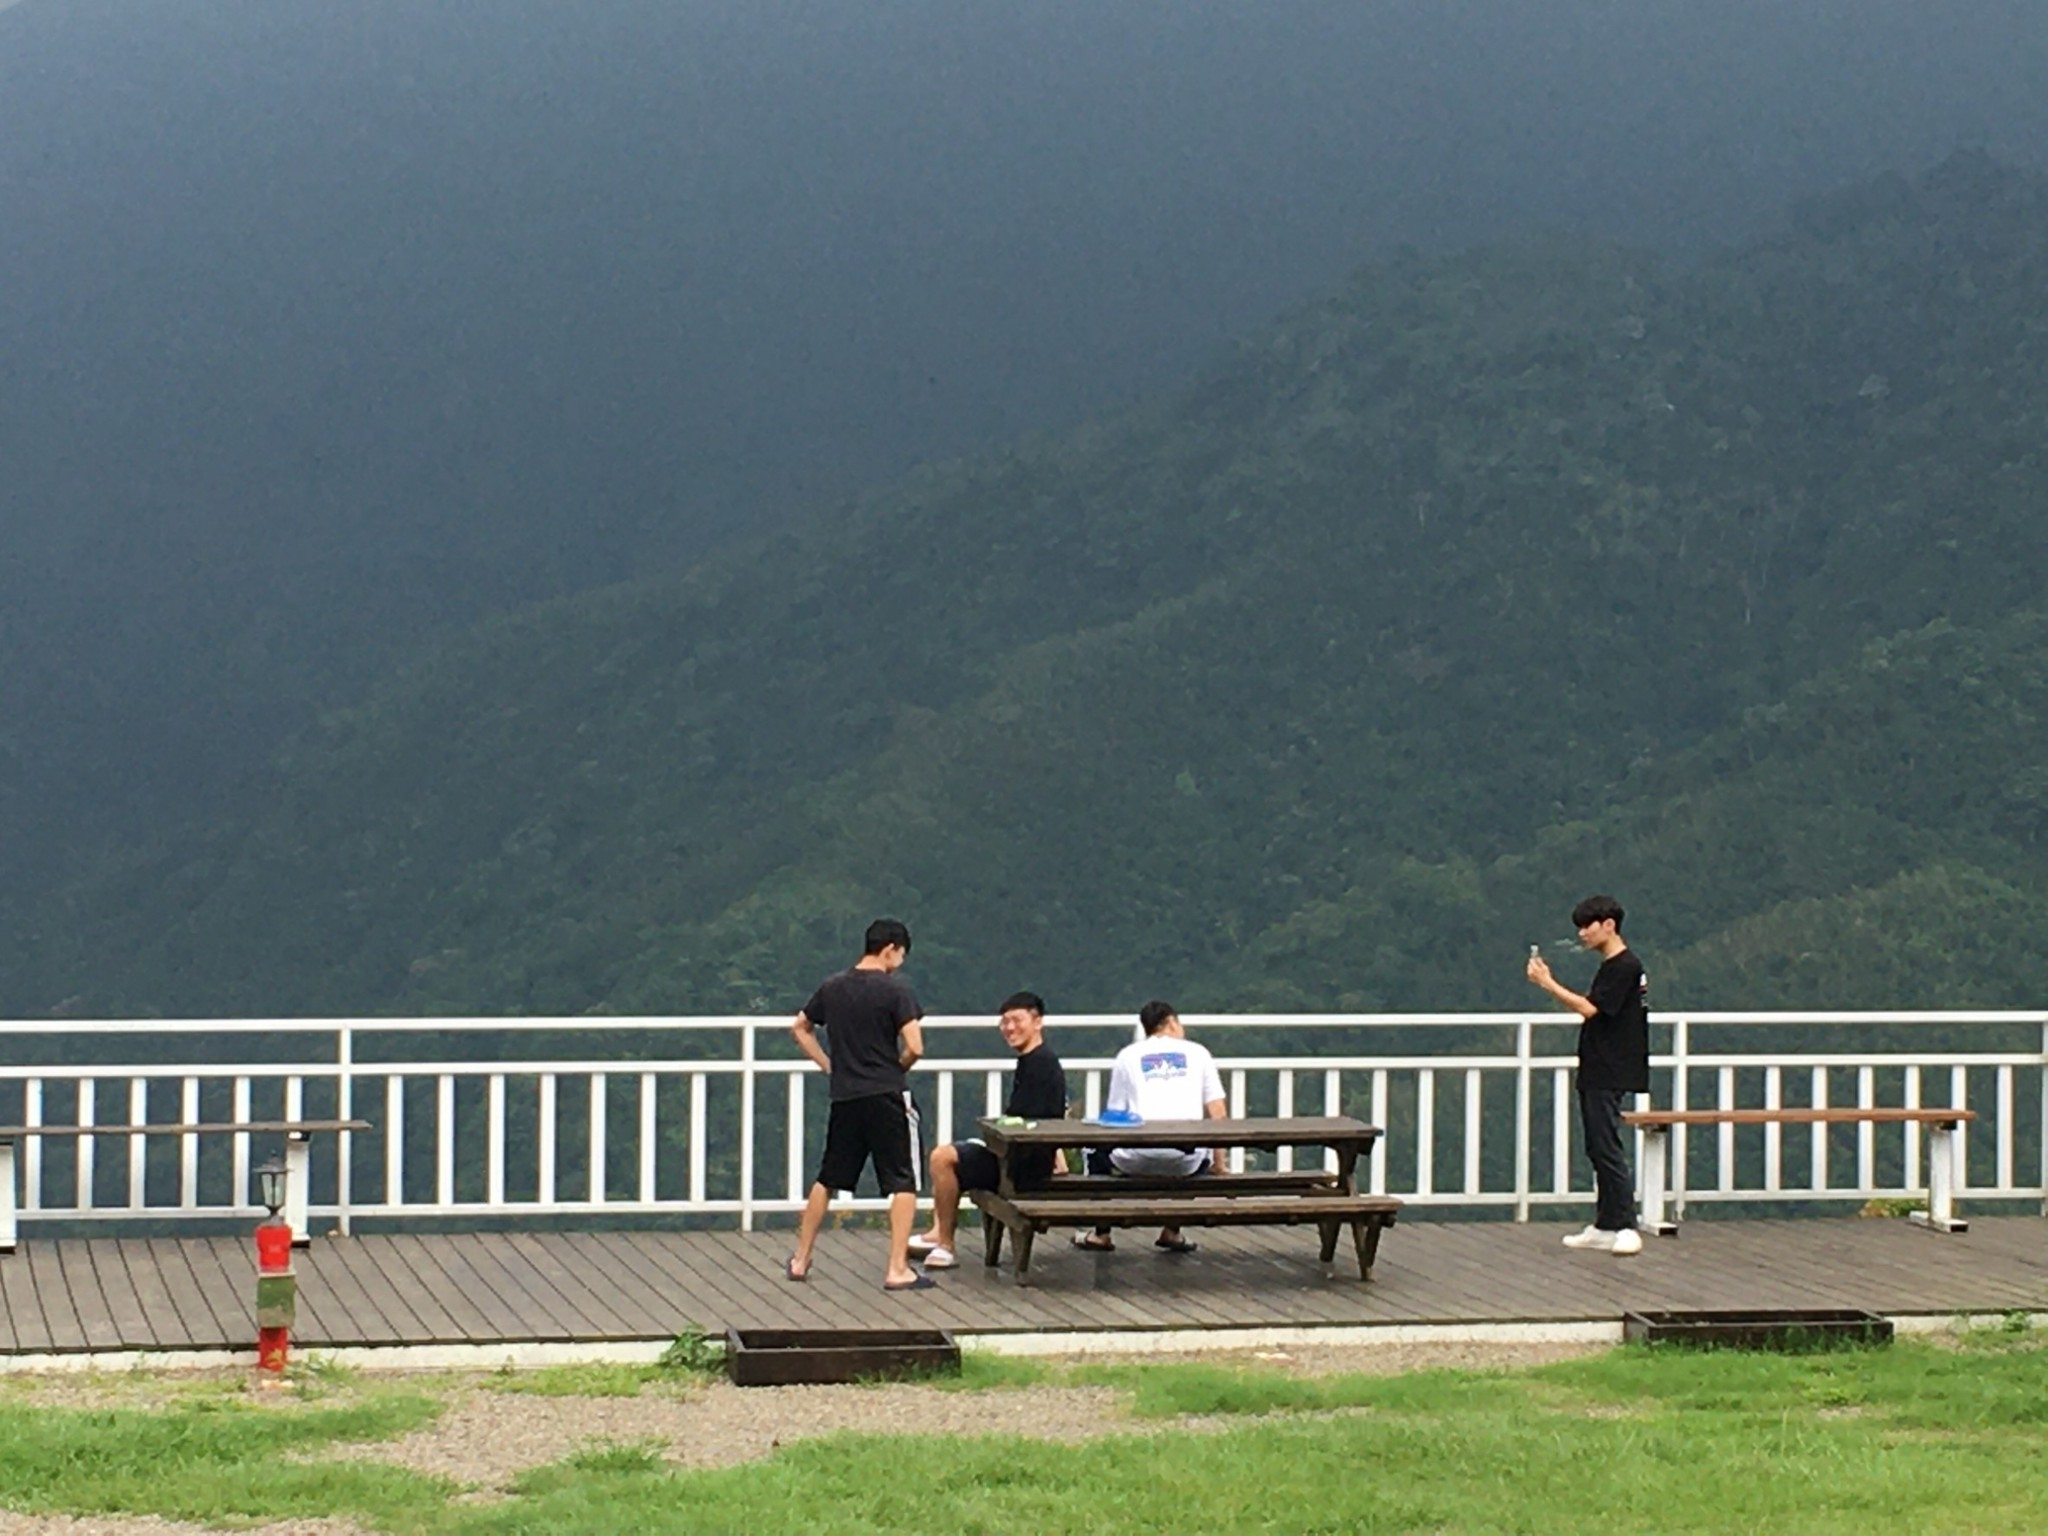people: (802, 916, 925, 1287), (1543, 910, 1660, 1258), (1096, 1005, 1225, 1258), (943, 1010, 1063, 1249)
